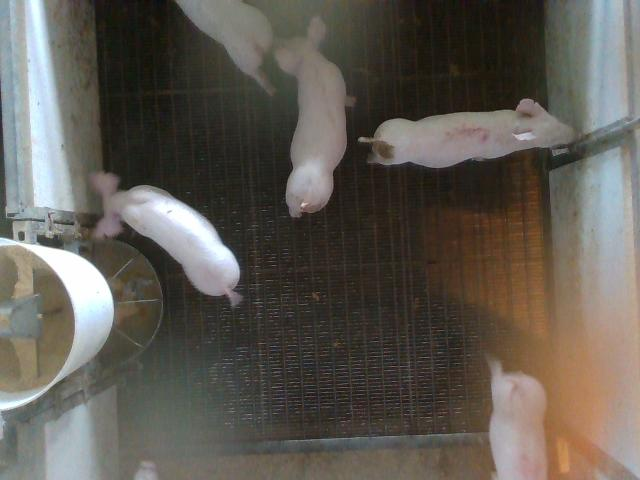pig-4: (489, 359, 546, 478)
pig-5: (359, 99, 575, 167)
